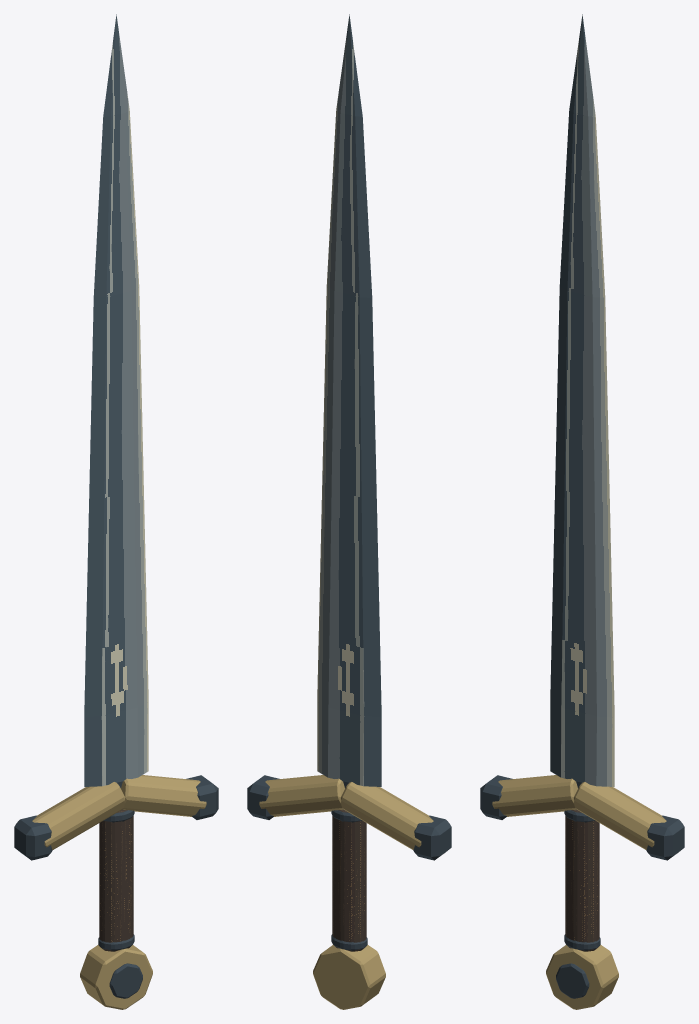
File: sword-graphic.glb
3 views of the same model, side by side, from view 1: azimuth 30°, elevation 25°; view 2: azimuth 150°, elevation 25°; view 3: azimuth 330°, elevation 25° (orthographic).
Visible parts, largest first — view 1: sword-graphic runtime mesh; view 2: sword-graphic runtime mesh; view 3: sword-graphic runtime mesh.
Part boxes in pixels (box(x1,y1,x2,y2)): sword-graphic runtime mesh: box(14, 14, 218, 1009); sword-graphic runtime mesh: box(247, 14, 451, 1009); sword-graphic runtime mesh: box(480, 14, 684, 1009).
Bounding box in the file's own units: 0.203 × 0.9962 × 0.0377.
Materials: 4 (3 with a texture image).
